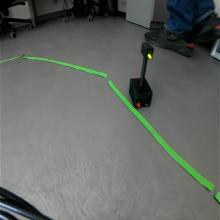green: (140, 41, 154, 60)
